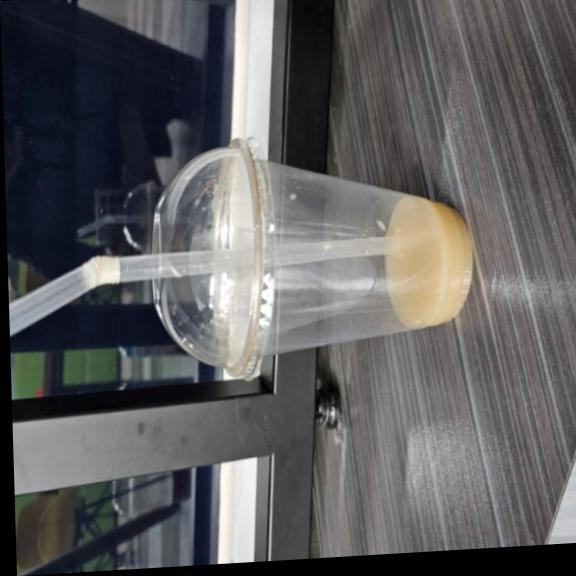Plastik: (154, 153, 472, 376)
